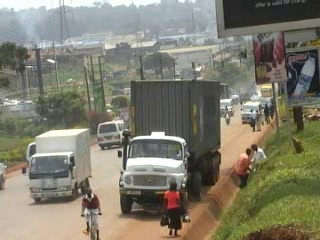Motorcycle: (222, 105, 231, 128)
